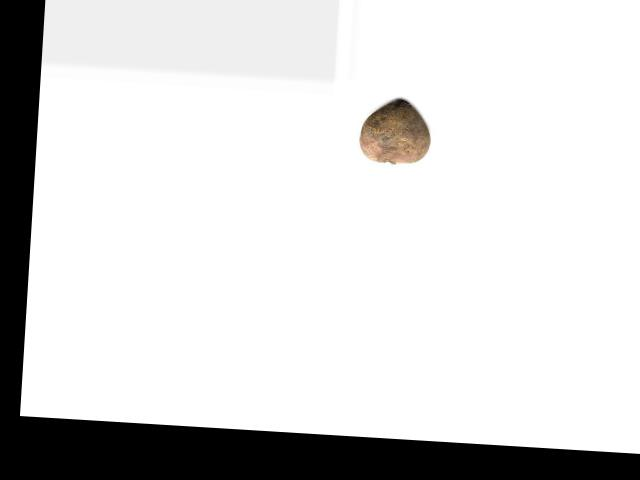beet: (357, 96, 432, 165)
